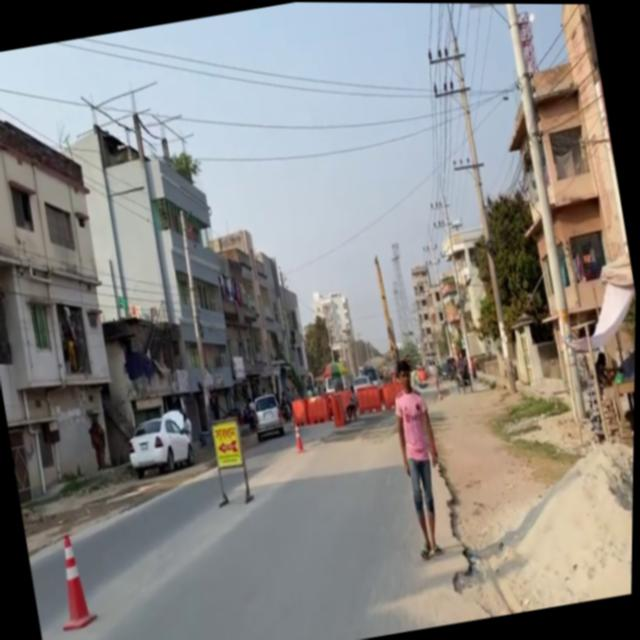Construction-barrier: (409, 362, 520, 622), (415, 379, 484, 582), (434, 454, 479, 576)
Fallen-tree: (343, 394, 362, 422)
Garbage: (204, 414, 256, 507), (597, 375, 636, 452)
Garbage-bin: (385, 354, 458, 559), (86, 416, 112, 470)
Light-pole: (491, 3, 596, 442)
Pothole: (409, 330, 636, 623), (410, 347, 581, 561)
Rickshaw: (210, 415, 246, 468)
